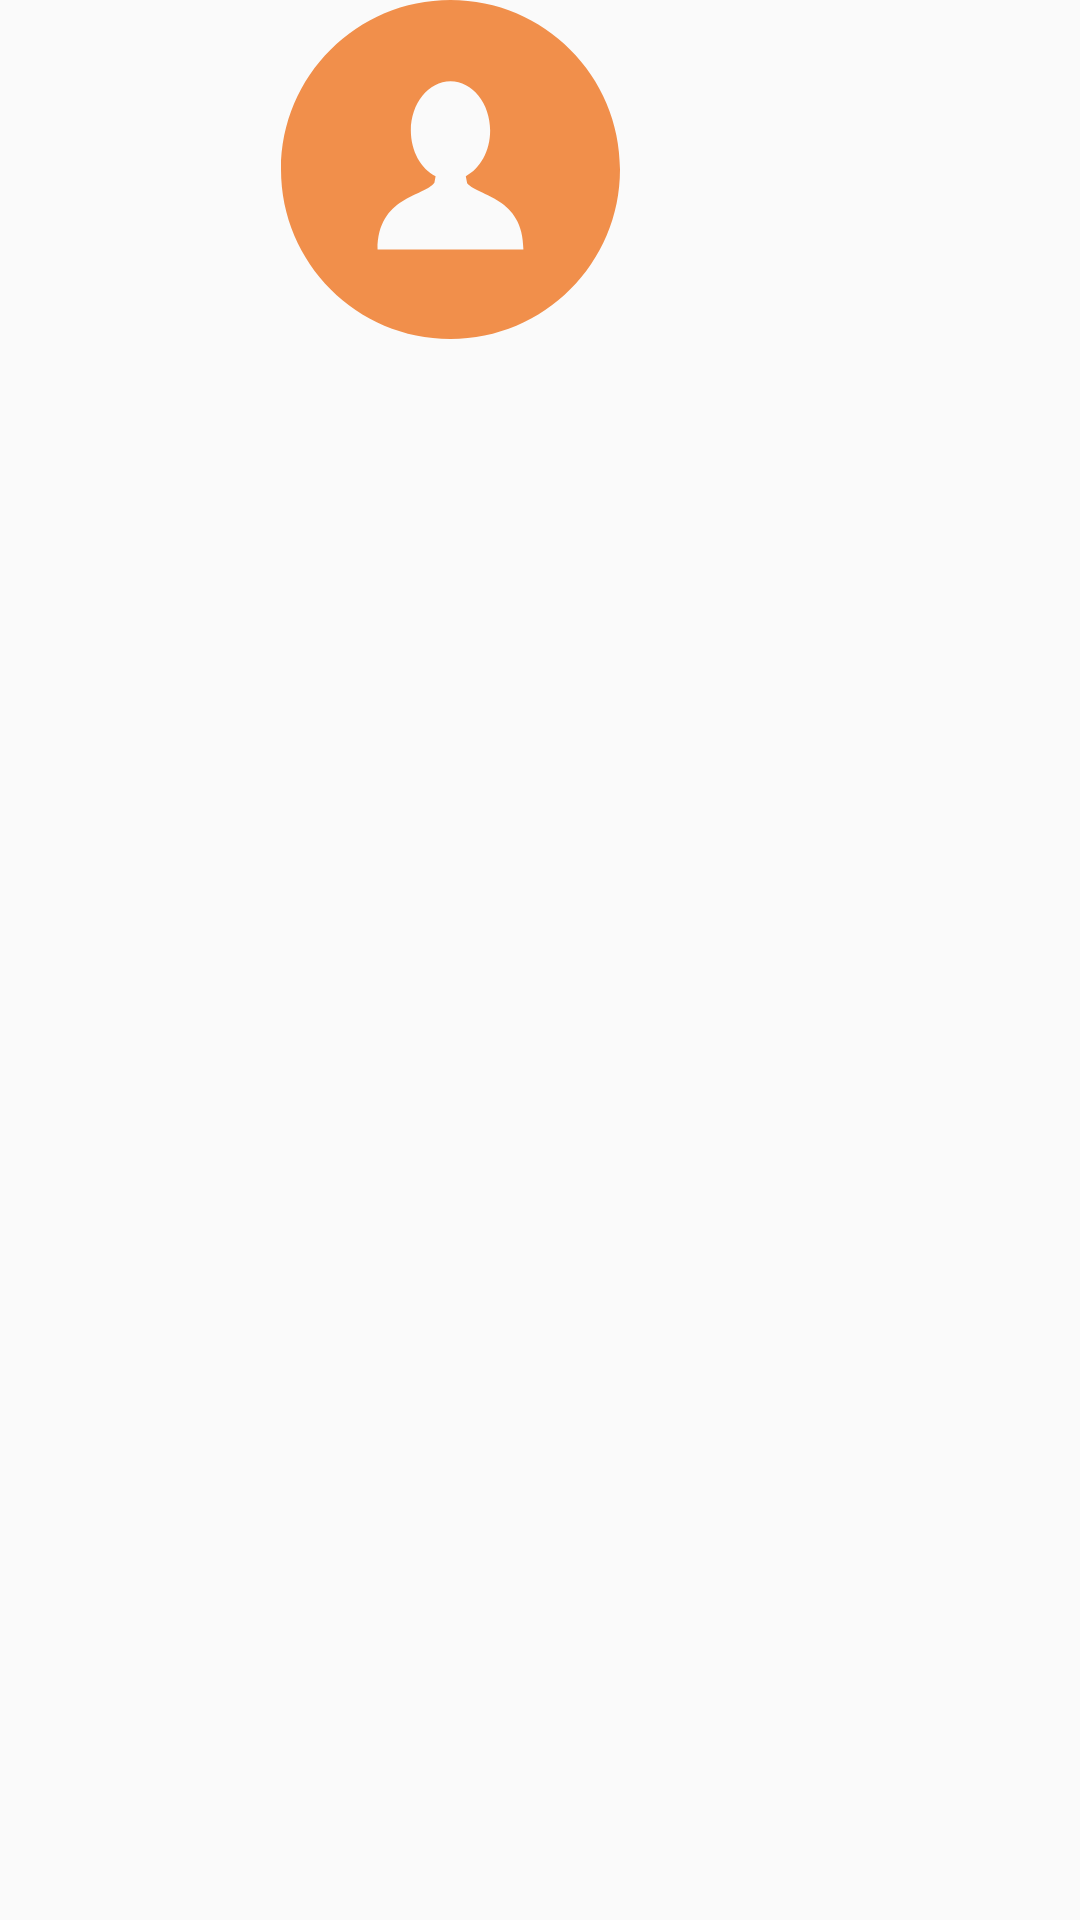

Screen size 1080×1920. Icon name, then its box in pixels as (x1, y1, x2, y2):
usuario: (281, 0, 620, 339)
